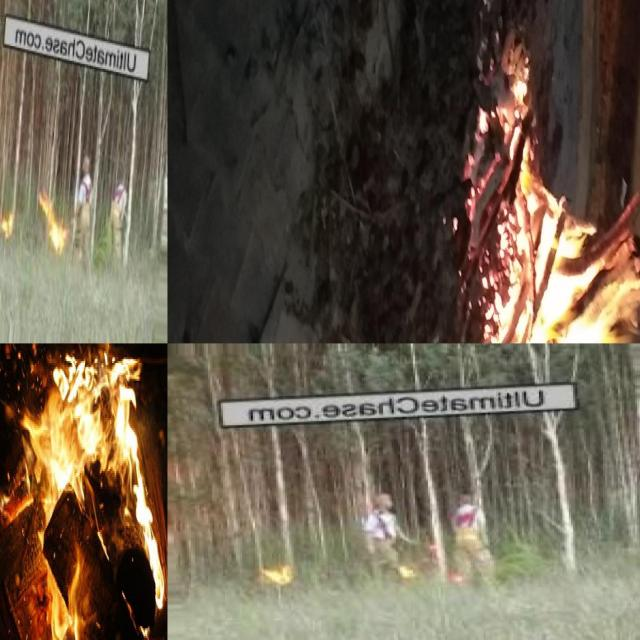fire: (20, 351, 165, 640), (544, 90, 640, 343), (40, 183, 70, 260), (264, 560, 296, 588), (0, 206, 19, 240), (396, 559, 424, 579)
